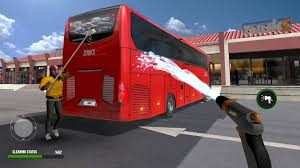bus: (58, 3, 215, 124)
